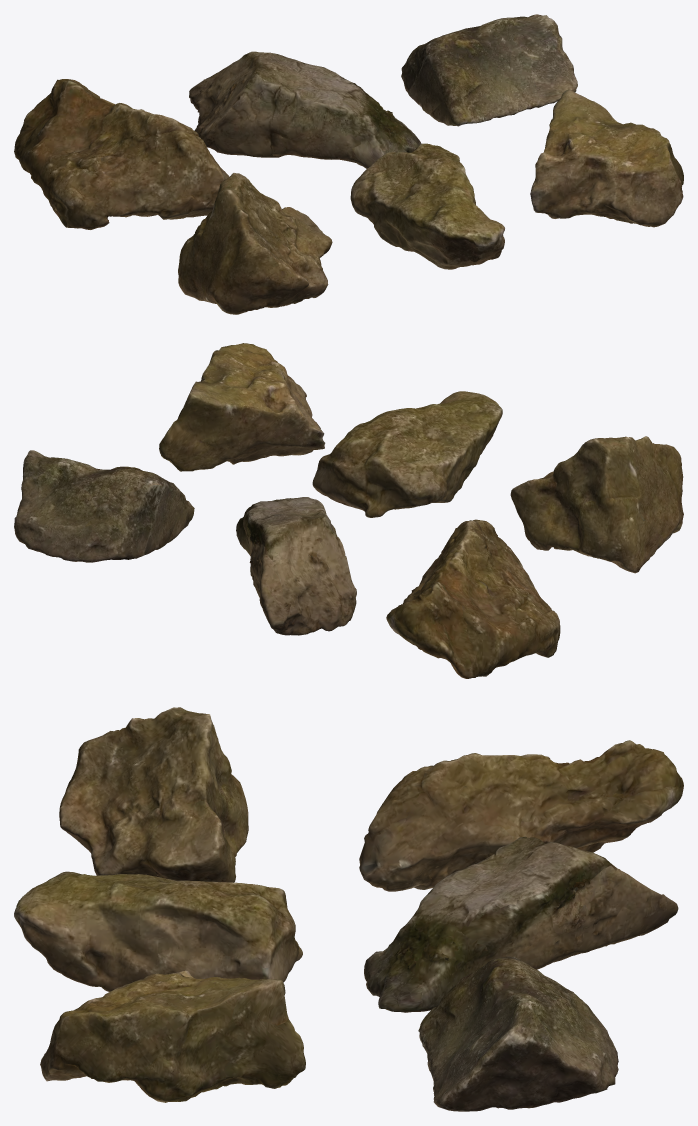
Rendered from rocks.glb.
3 views of the same model, one above another, from view 1: azimuth 30°, elevation 25°; view 2: azimuth 150°, elevation 25°; view 3: azimuth 270°, elevation 25° (orthographic). The views are drawn at different scales.
Parts seen in each view (by area): view 1: rock_moss_set_01_rock01, rock_moss_set_01_rock02, rock_moss_set_01_rock06, rock_moss_set_01_rock04, rock_moss_set_01_rock03, rock_moss_set_01_rock05; view 2: rock_moss_set_01_rock04, rock_moss_set_01_rock01, rock_moss_set_01_rock05, rock_moss_set_01_rock03, rock_moss_set_01_rock06, rock_moss_set_01_rock02; view 3: rock_moss_set_01_rock01, rock_moss_set_01_rock02, rock_moss_set_01_rock05, rock_moss_set_01_rock04, rock_moss_set_01_rock06, rock_moss_set_01_rock03.
Part boxes in pixels (x1,y1,x2,y2): rock_moss_set_01_rock01: (14,79,229,229); rock_moss_set_01_rock02: (189,51,421,168); rock_moss_set_01_rock06: (530,89,683,227); rock_moss_set_01_rock04: (178,173,332,314); rock_moss_set_01_rock03: (401,14,577,126); rock_moss_set_01_rock05: (350,143,504,269); rock_moss_set_01_rock04: (510,436,683,573); rock_moss_set_01_rock01: (386,519,560,678); rock_moss_set_01_rock05: (312,391,502,517); rock_moss_set_01_rock03: (14,450,194,562); rock_moss_set_01_rock06: (159,343,325,471); rock_moss_set_01_rock02: (236,497,356,635); rock_moss_set_01_rock01: (359,740,683,891); rock_moss_set_01_rock02: (364,836,678,1012); rock_moss_set_01_rock05: (14,871,302,991); rock_moss_set_01_rock04: (59,707,248,882); rock_moss_set_01_rock06: (40,970,305,1102); rock_moss_set_01_rock03: (418,956,618,1111).
Size of the model in its own units: 8 by 1.77 by 6.95.
1 material, 1 textured.
